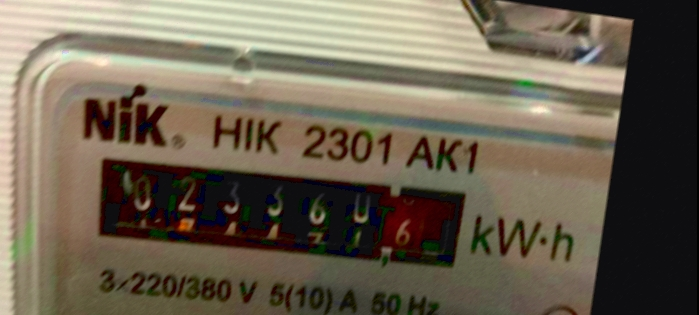0: (125, 169, 156, 214), (346, 186, 374, 226)
2: (170, 169, 201, 213)
3: (217, 174, 243, 217), (259, 178, 286, 219)
6: (300, 184, 332, 229), (390, 211, 416, 250)
screen: (66, 122, 480, 297)
